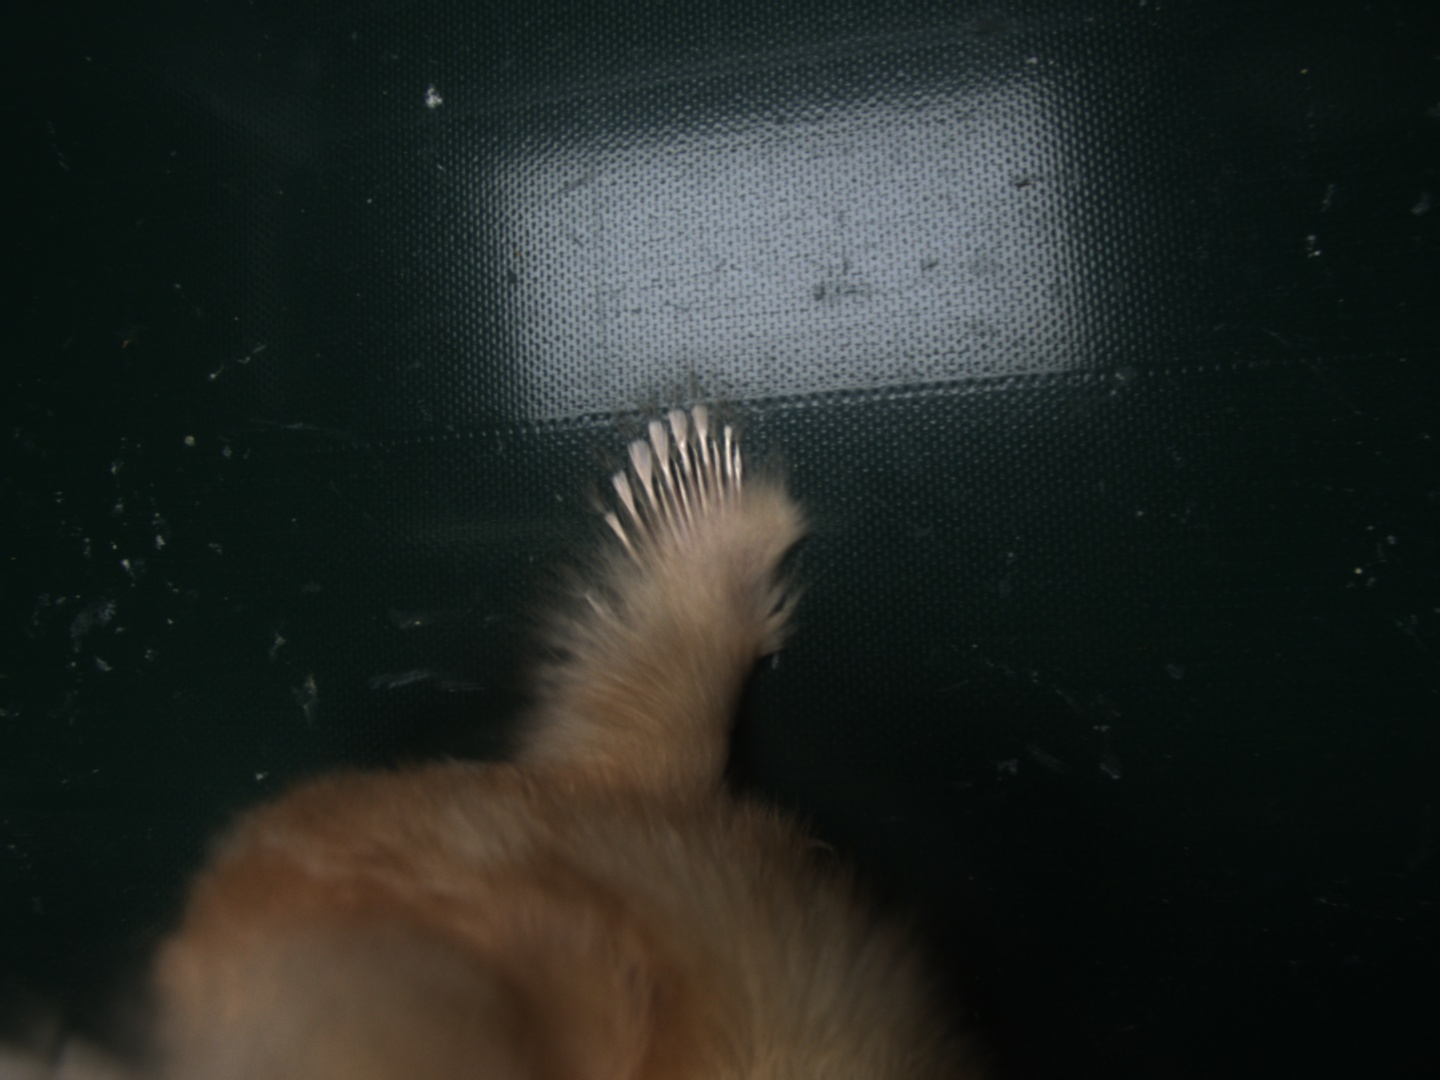female: (600, 406, 747, 572)
